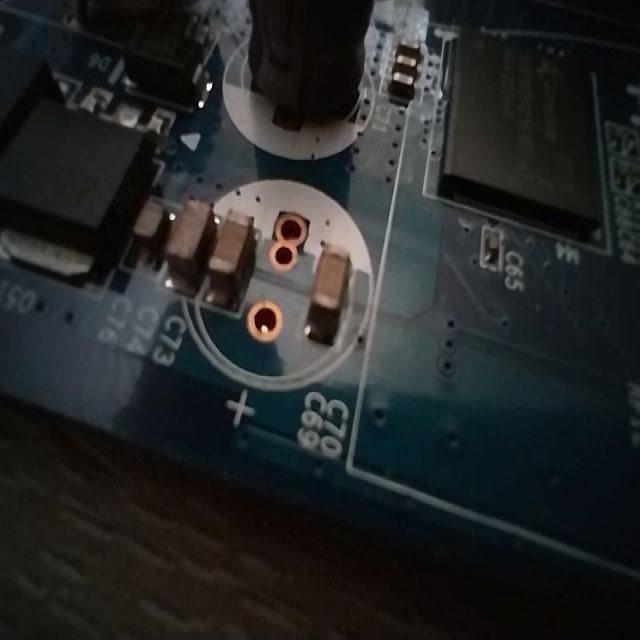capacitor: (300, 212, 372, 364), (162, 157, 216, 313), (202, 188, 262, 318), (469, 206, 518, 288), (384, 60, 426, 104)
